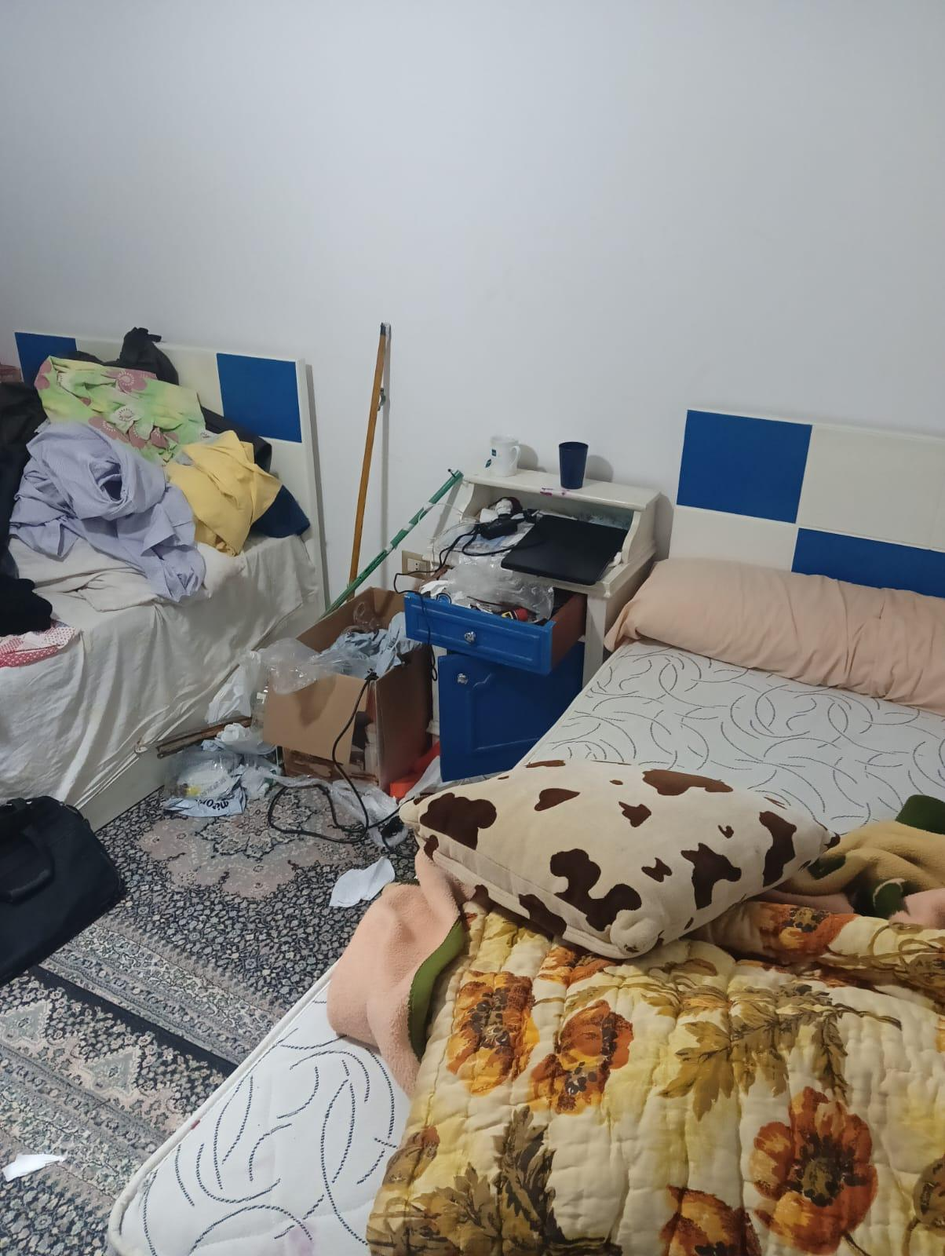cup: (485, 436, 520, 477), (559, 441, 588, 490)
